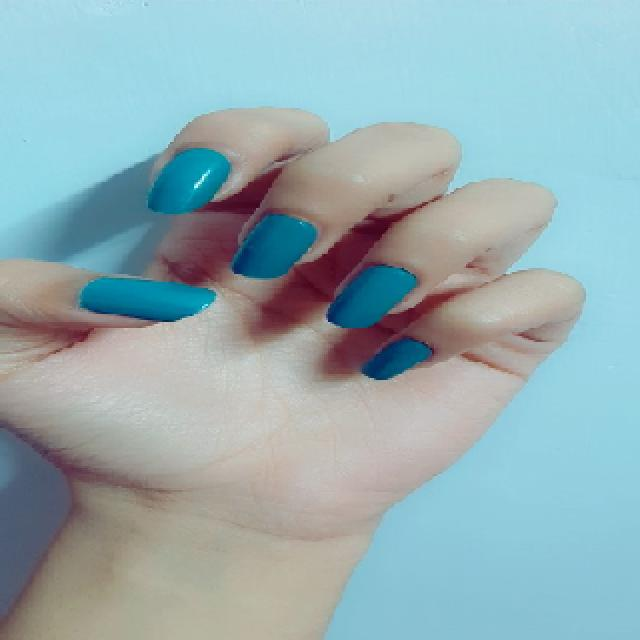Nail: (231, 212, 319, 278), (80, 278, 215, 321), (326, 265, 416, 329), (148, 148, 231, 213), (362, 338, 432, 380)
